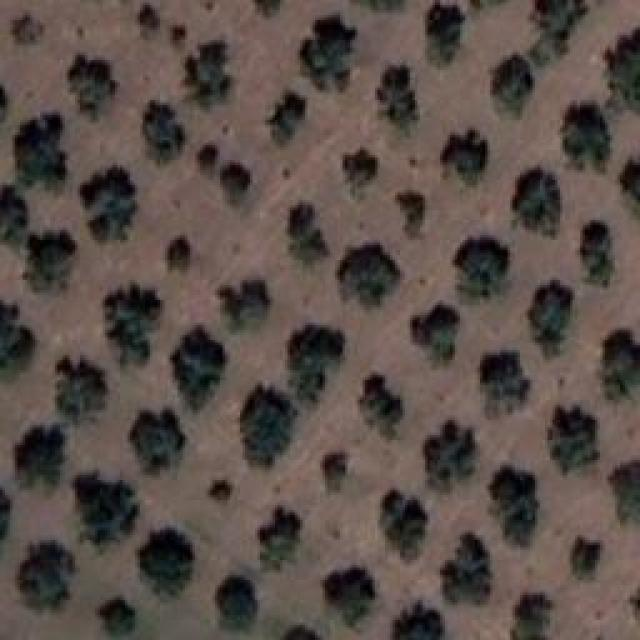Tree: (73, 473, 139, 546), (103, 285, 162, 366), (170, 325, 226, 410), (240, 385, 296, 467), (287, 325, 345, 402), (80, 167, 138, 242), (300, 15, 356, 90), (490, 465, 540, 546), (530, 0, 589, 66), (18, 543, 74, 610), (140, 528, 195, 596), (15, 113, 66, 186), (338, 245, 398, 307), (130, 410, 186, 476), (425, 420, 476, 491), (440, 533, 491, 604), (548, 405, 599, 473), (528, 280, 573, 357), (380, 490, 428, 561), (455, 238, 510, 299), (58, 358, 107, 426), (512, 168, 560, 236), (25, 230, 78, 291), (15, 425, 66, 488), (483, 352, 532, 417), (185, 40, 230, 108), (325, 567, 376, 627), (70, 55, 116, 121), (413, 305, 462, 365), (563, 103, 606, 171), (360, 375, 404, 441), (605, 28, 640, 110), (258, 507, 302, 572), (143, 100, 186, 163), (493, 55, 536, 118), (218, 282, 272, 332), (602, 330, 640, 400), (425, 2, 465, 67), (443, 130, 489, 186), (378, 65, 419, 127), (0, 304, 35, 374), (290, 203, 328, 264), (218, 575, 259, 630), (268, 93, 307, 145), (580, 222, 610, 287), (610, 460, 640, 523), (513, 593, 553, 640), (392, 602, 440, 640), (343, 150, 378, 198), (0, 186, 28, 246), (100, 597, 138, 637), (573, 538, 603, 582), (223, 163, 253, 206), (400, 193, 426, 236), (323, 452, 349, 492), (13, 15, 46, 46), (168, 238, 193, 273), (198, 144, 221, 176), (285, 625, 323, 640), (140, 5, 160, 31), (208, 480, 233, 500), (255, 0, 282, 16)
